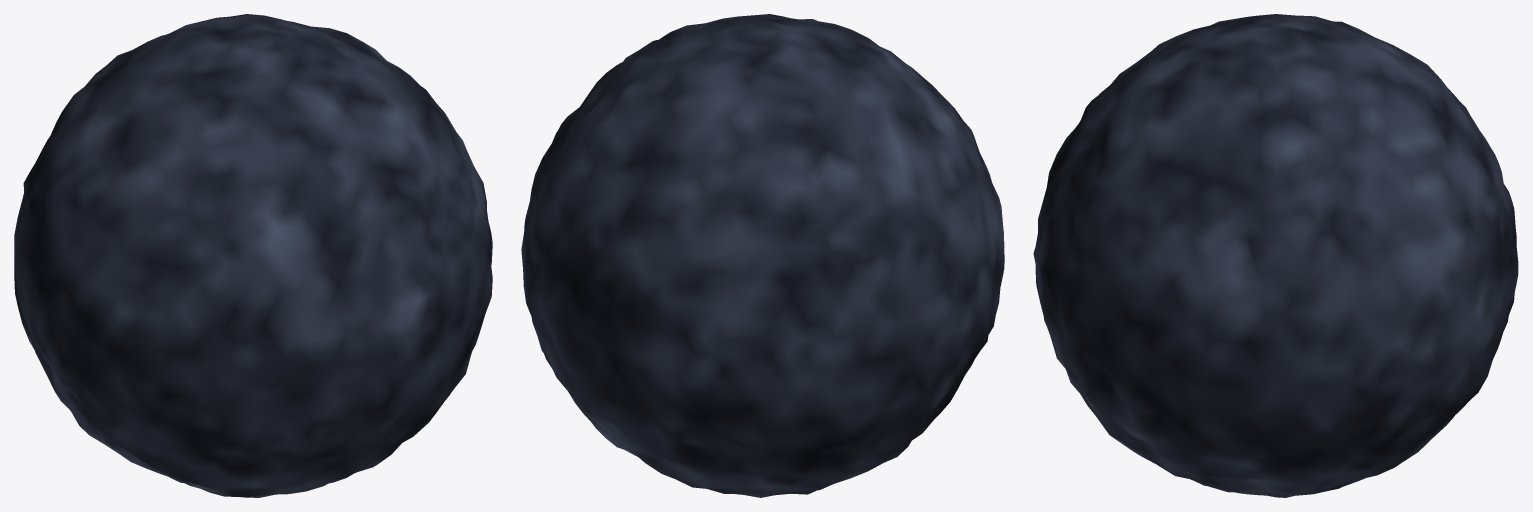
Rendered from moon.glb.
3 renders of one model, left to right at view 1: azimuth 30°, elevation 25°; view 2: azimuth 150°, elevation 25°; view 3: azimuth 270°, elevation 25°, orthographic.
Visible parts, largest first — view 1: Moon; view 2: Moon; view 3: Moon.
Boxes of the visible parts, x1,y1,x2,y2 form: Moon: (14,14,492,497); Moon: (521,14,1004,497); Moon: (1033,14,1518,497).
Size of the model in its own units: 36.18 by 36.46 by 36.3.
